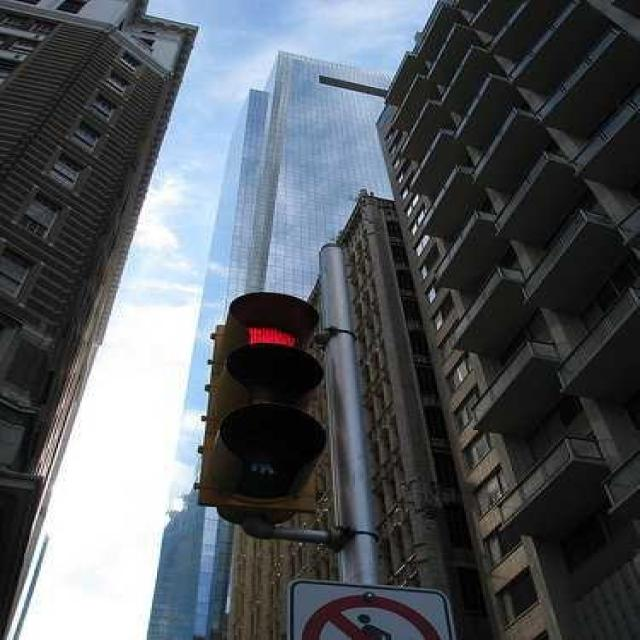Traffic Light -Red-: (188, 270, 339, 540)
